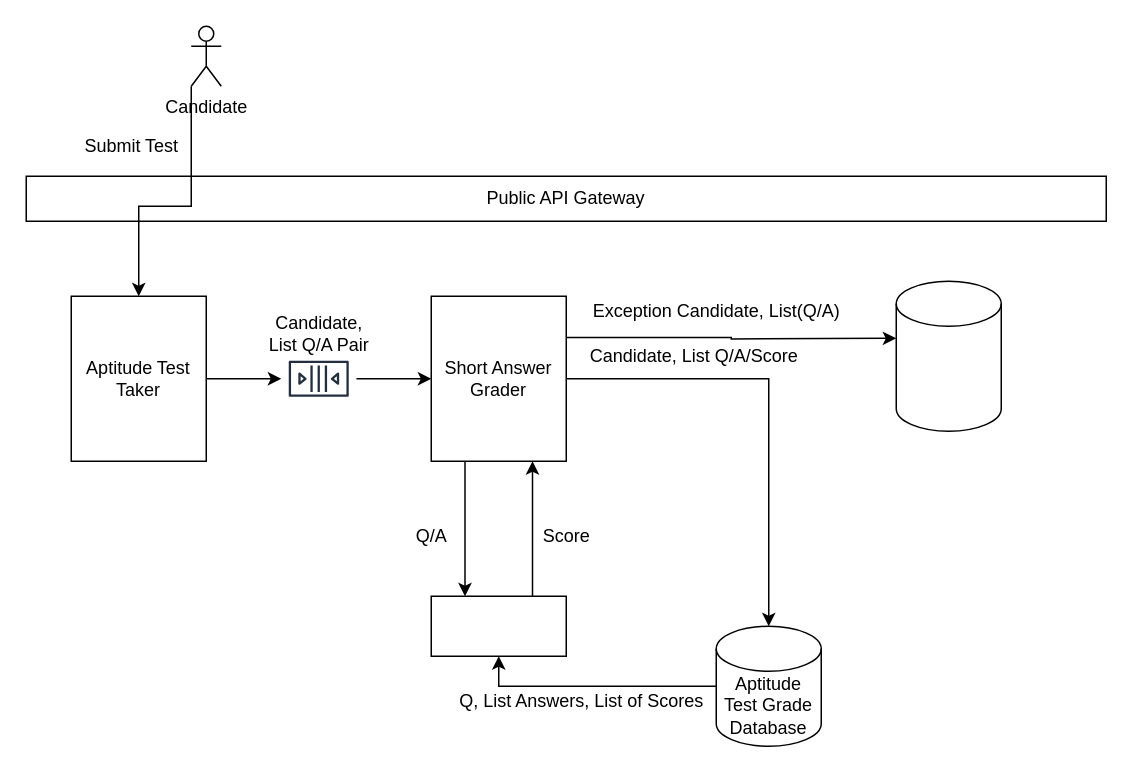
Image size: 1133x773. Some labels were removed from this diagram. Here are the shapes that lost their labels. From the top down, the centre of each, then its label:
At [948,355]: "Aptitude Test Ungraded Database".
At [498,625]: "Scorer (Backed by LLM)".
